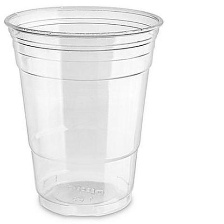glass: (0, 2, 166, 219)
